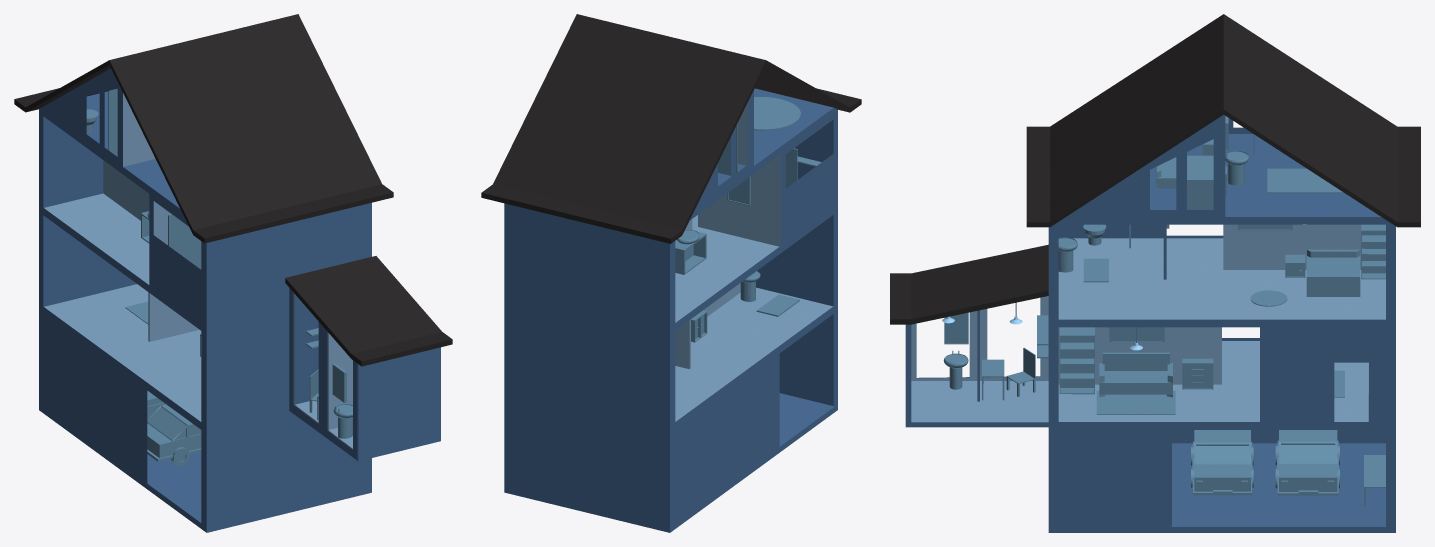
Rendered from house-compressed.glb.
3 views of the same model, side by side, from view 1: azimuth 30°, elevation 25°; view 2: azimuth 150°, elevation 25°; view 3: azimuth 270°, elevation 25° (orthographic). The views are drawn at different scales.
Parts seen in each view (by area): view 1: house; view 2: house; view 3: house.
Part boxes in pixels (x1=…): house: x1=14, y1=14, x2=452, y2=532; house: x1=481, y1=14, x2=861, y2=532; house: x1=890, y1=14, x2=1420, y2=532.
Bounding box in the file's own units: 16 × 33.5 × 37.57.
Materials: 2 (2 with a texture image).
